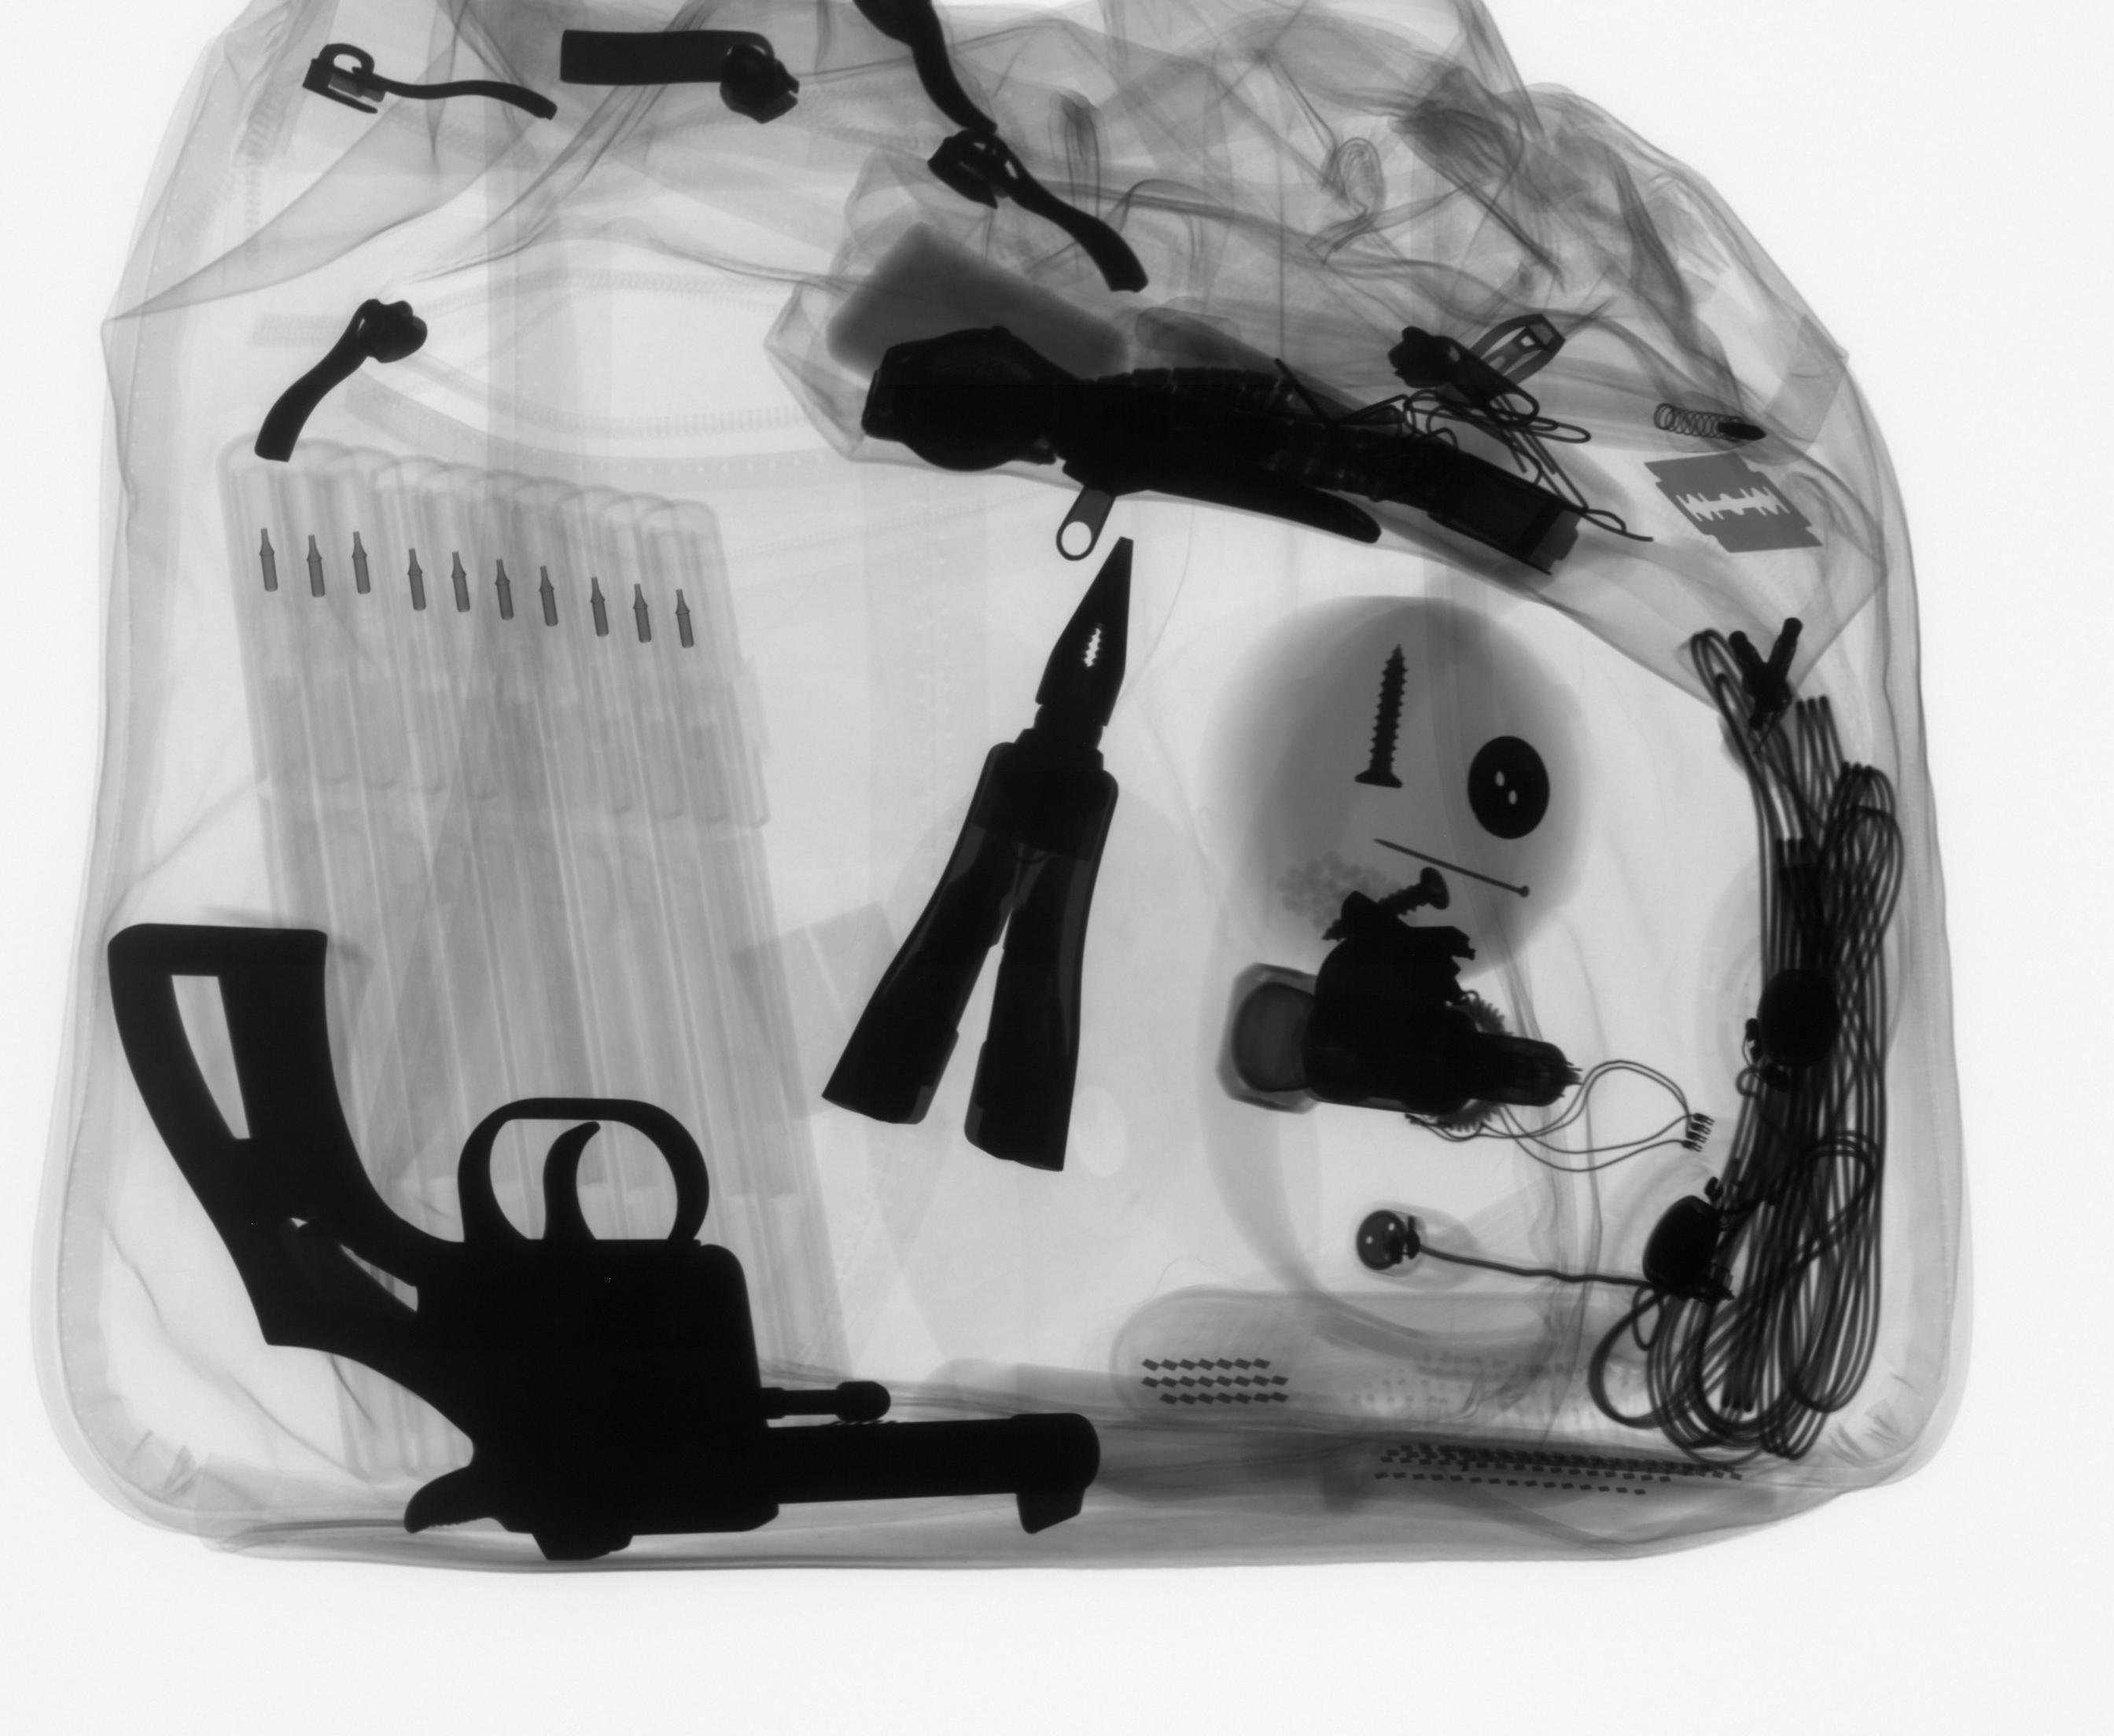Handgun: (96, 918, 1123, 1579)
RazorBlade: (1641, 446, 1834, 558)
